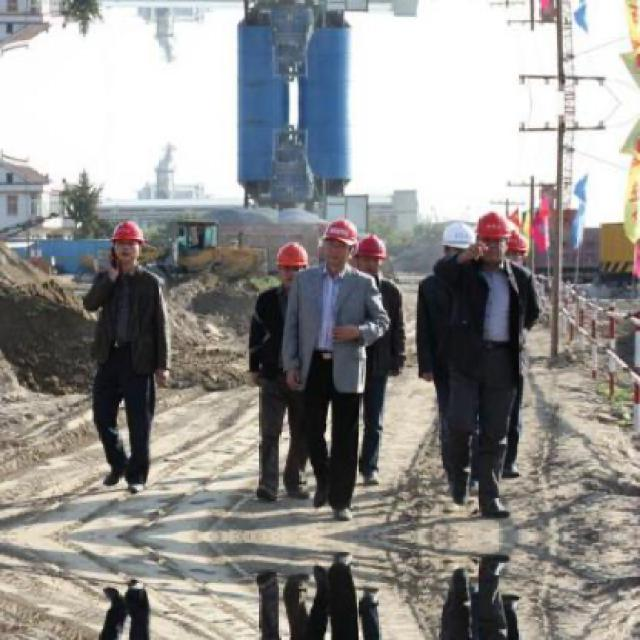helmet: (104, 218, 144, 272), (474, 208, 511, 265), (322, 214, 358, 272), (437, 219, 477, 271), (272, 239, 310, 288), (354, 231, 389, 281), (500, 230, 529, 271)
